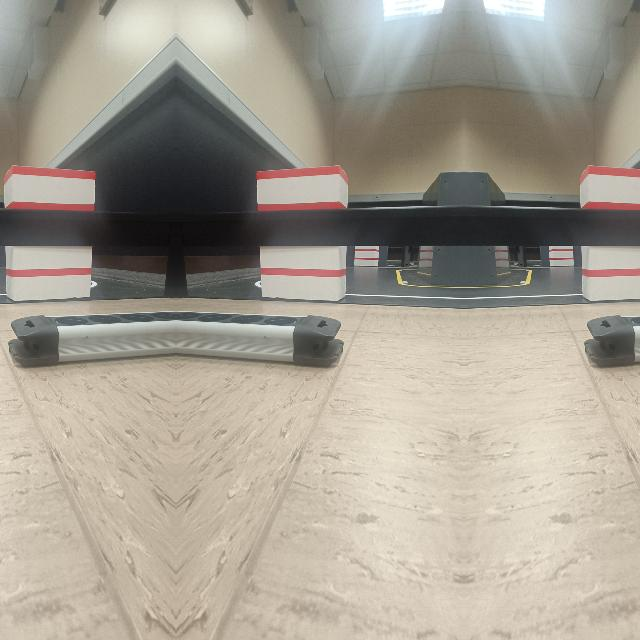obstacle: (174, 312, 340, 370), (11, 312, 176, 370), (587, 312, 640, 370)
